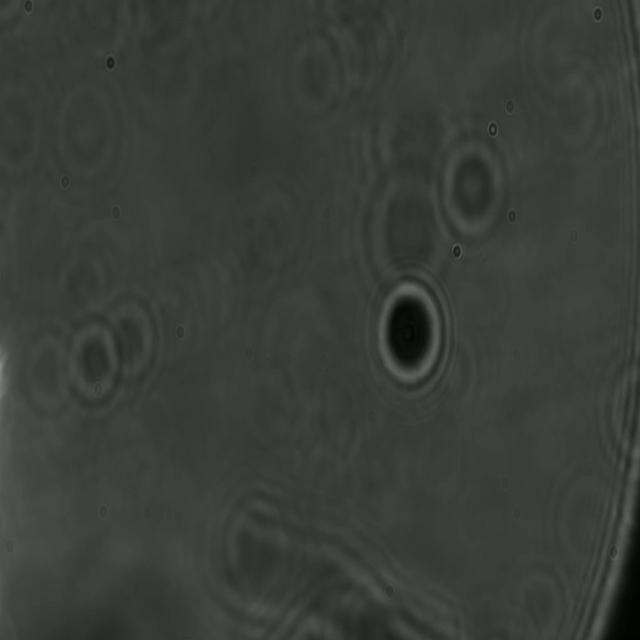DCELL: (373, 268, 452, 401)
